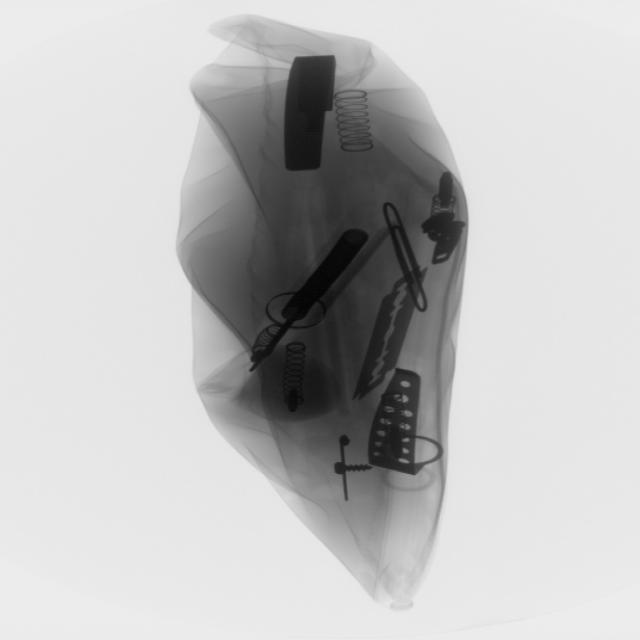BLADE: (354, 269, 423, 408)
SCREW: (330, 446, 374, 510)
